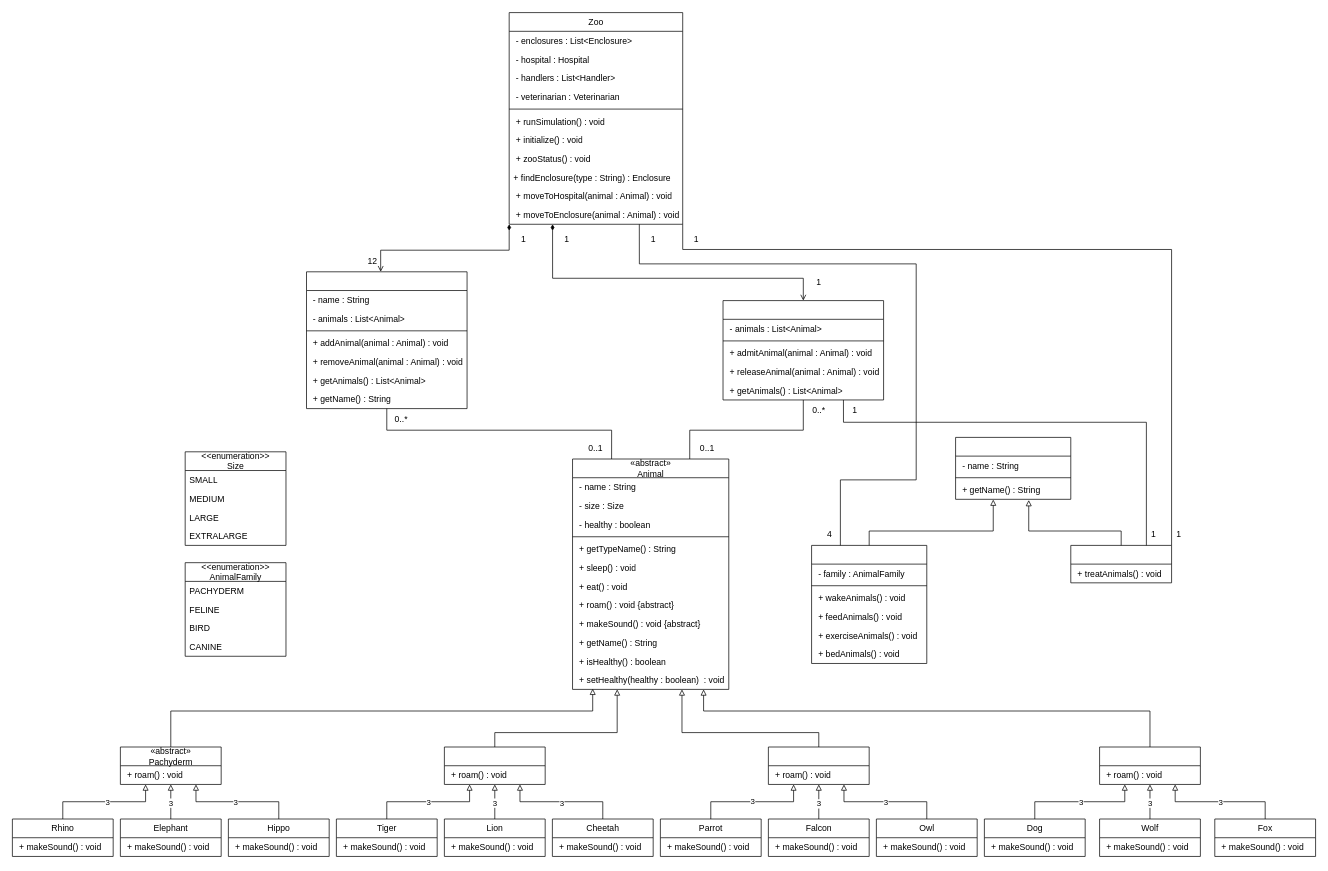
Image size: 1328x871. Some labels were removed from this diagram. Here are the shapes that lost their labels. From the top down, the box of each, then its label:
(306, 271, 467, 409): Enclosure
(722, 300, 884, 400): Hospital
(955, 437, 1071, 499): «abstract» Staff
(1070, 545, 1172, 583): Veterinarian
(811, 545, 927, 663): Handler
(444, 746, 545, 784): «abstract» Feline
(768, 746, 869, 784): «abstract» Bird
(1099, 746, 1200, 784): «abstract» Canine
